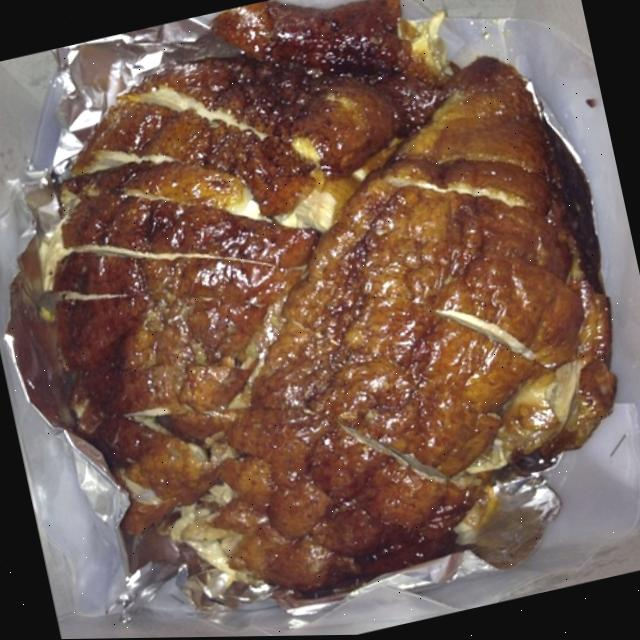烧串烤肉: (0, 0, 639, 611)
